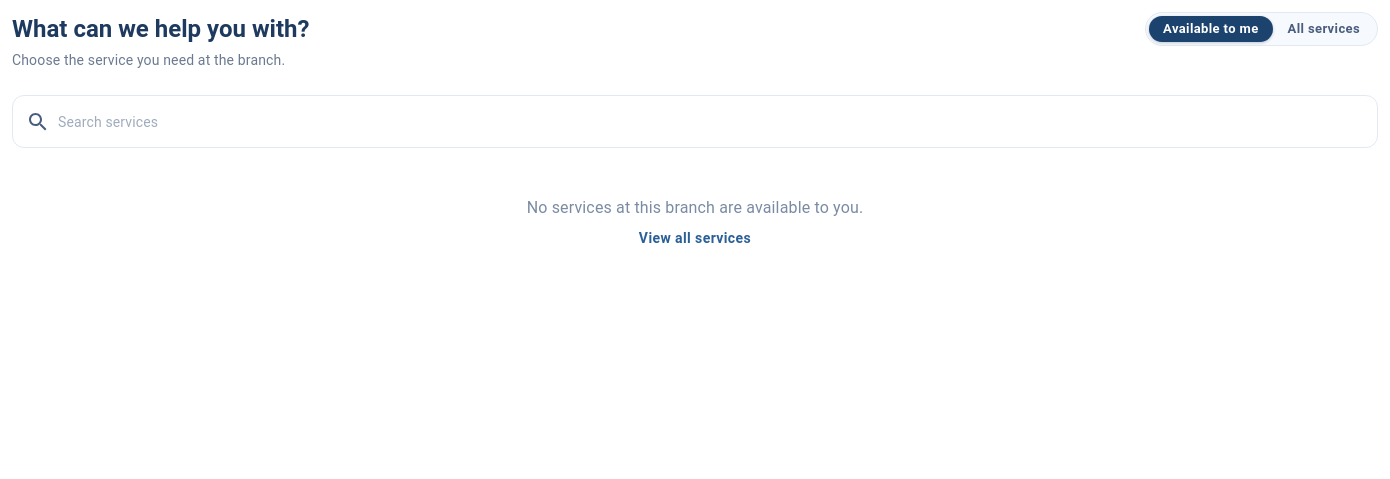
when nothing is available to the customer › explains it and offers to view all services
Check: the text "No services at this branch are available to you." is shown, box [527,198,863,217]
Click the button "View all services" at x=695, y=239, box [631,220,759,257]
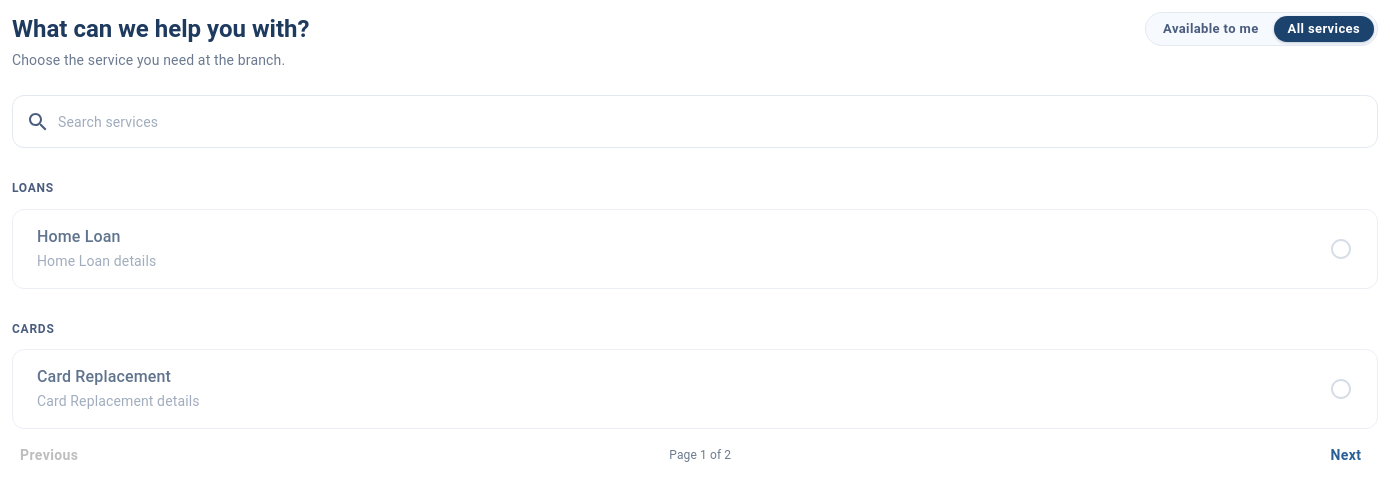
Check: the text "Home Loan" is shown, box [37,227,121,246]
Check: the button "View all services" is gone
